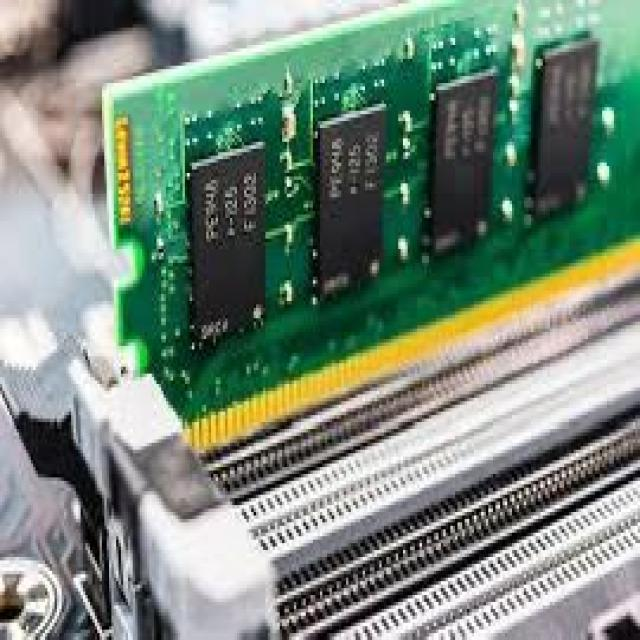Ram: (88, 0, 590, 384)
